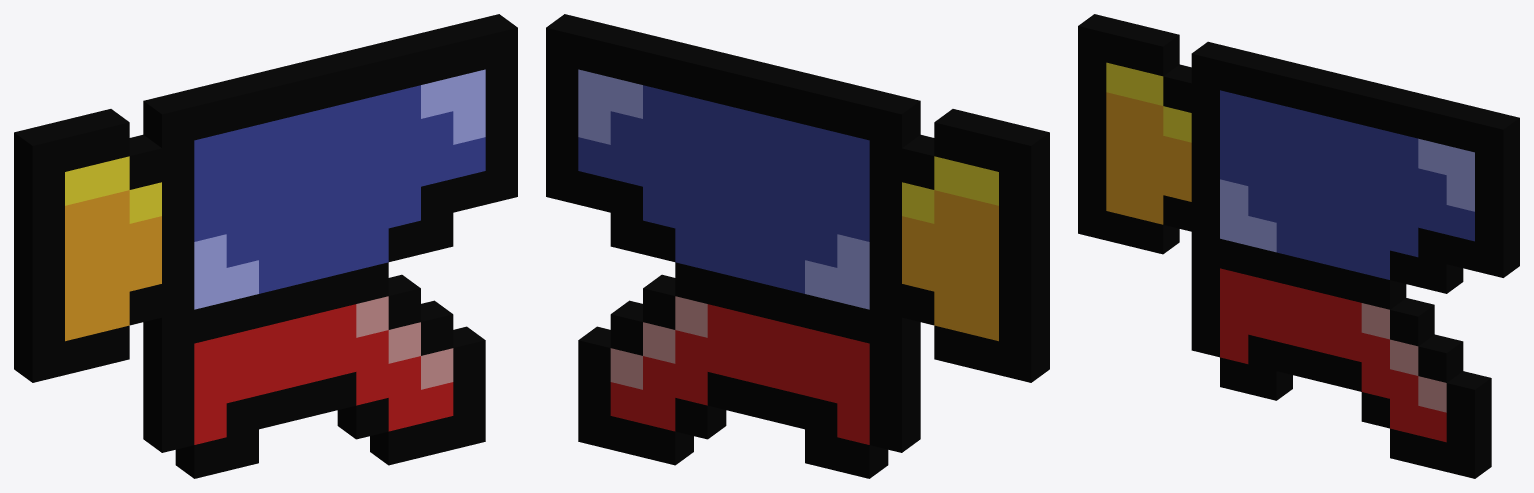
The model's file is Blue Heavy Paintball Gun.glb.
3 views of the same model, side by side, from view 1: azimuth 30°, elevation 25°; view 2: azimuth 150°, elevation 25°; view 3: azimuth 330°, elevation 25° (orthographic). The views are drawn at different scales.
Parts seen in each view (by area): view 1: generated(Clone); view 2: generated(Clone); view 3: generated(Clone).
Part boxes in pixels (x1,y1,x2,y2): generated(Clone): (14, 14, 517, 478); generated(Clone): (546, 14, 1049, 478); generated(Clone): (1078, 14, 1519, 478).
Bounding box in the file's own units: 15 × 12 × 0.9998.
Materials: 1 (1 with a texture image).
